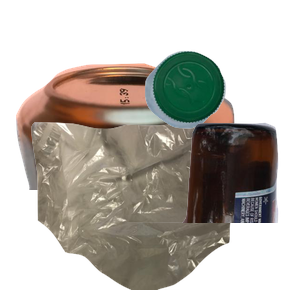glass: (87, 120, 300, 300)
metal: (13, 61, 240, 241)
plastic: (142, 48, 300, 169)
trash: (29, 120, 265, 300)
